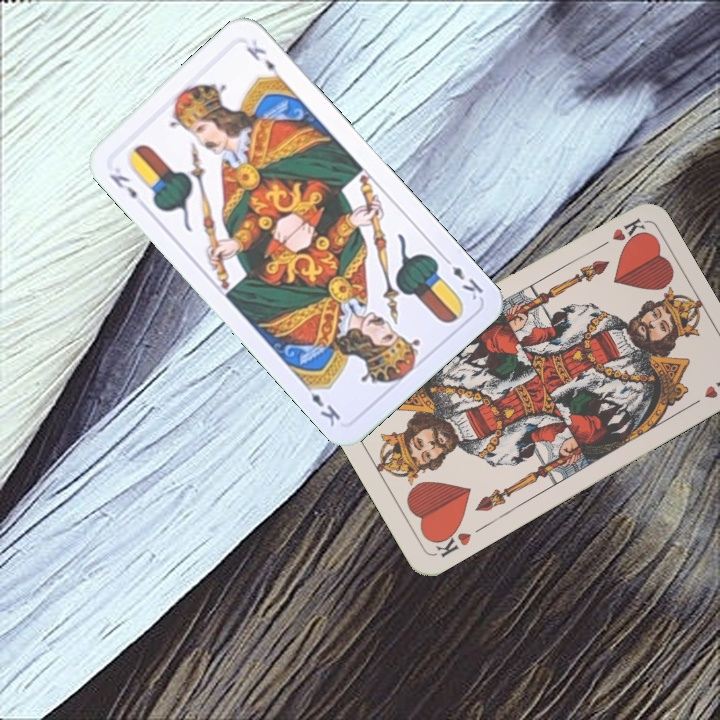EK: (438, 252, 486, 303), (105, 169, 140, 202)
HK: (428, 521, 486, 560), (590, 214, 646, 254)
